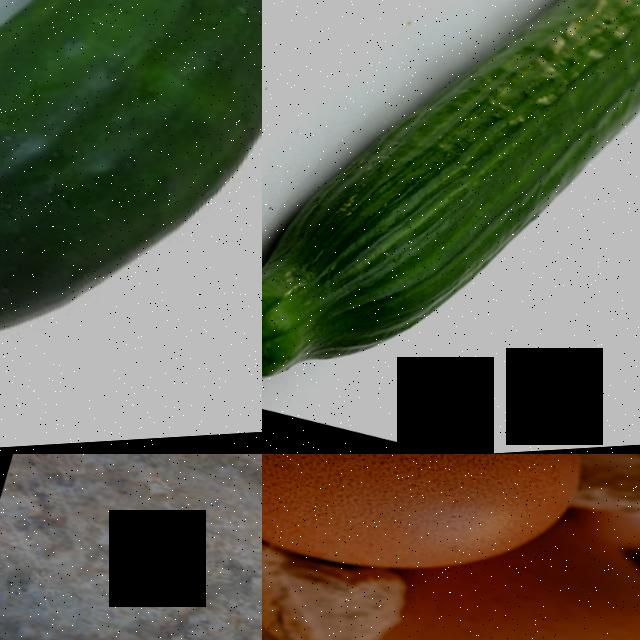cucumber: (291, 0, 640, 420), (0, 0, 262, 454)
egg_: (262, 454, 618, 634), (370, 554, 640, 640)
